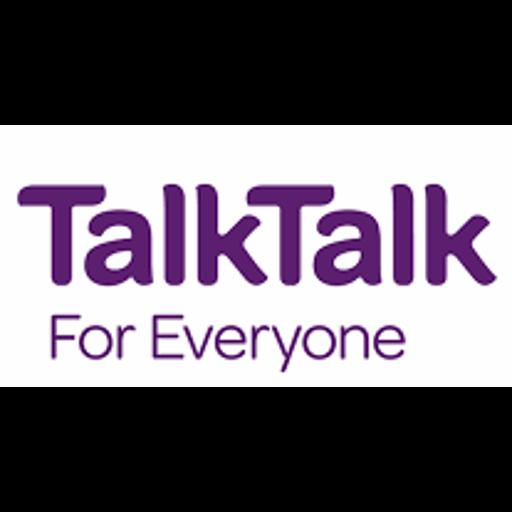TalkTalk Communications: (0, 125, 512, 387)
